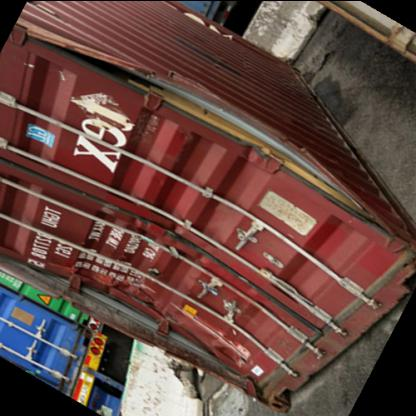Damage: (41, 28, 262, 152)
